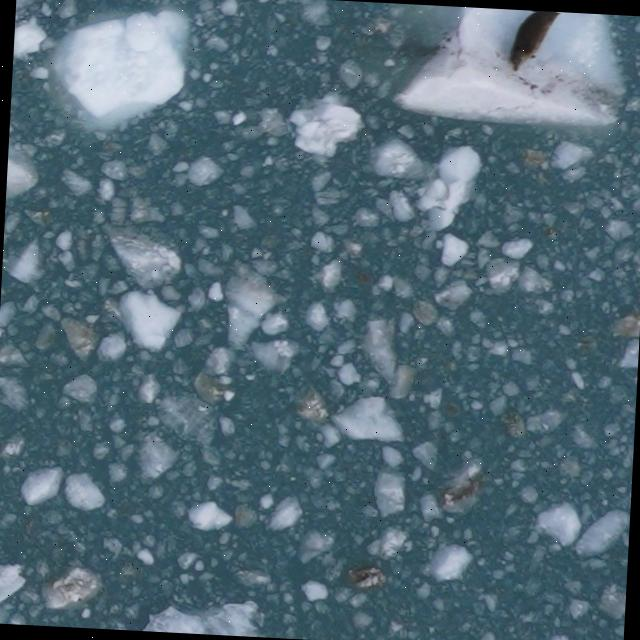seal: (504, 10, 578, 78)
